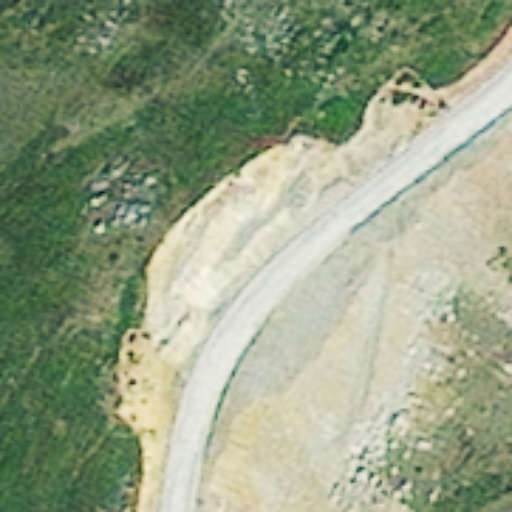landslide: (118, 320, 179, 470)
